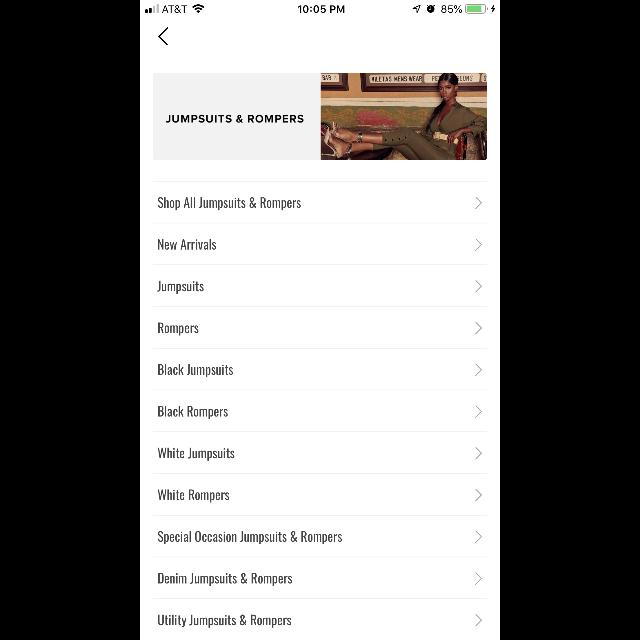icon: (158, 28, 168, 46), (476, 614, 482, 626), (476, 573, 482, 585), (476, 531, 482, 543), (476, 489, 482, 501), (476, 447, 482, 459), (476, 406, 482, 418), (476, 364, 482, 376), (476, 322, 482, 334), (476, 280, 482, 292), (476, 239, 482, 251), (476, 197, 482, 209)
image: (321, 74, 487, 160)
text: (158, 532, 342, 544), (158, 572, 292, 586), (158, 614, 292, 628), (158, 198, 302, 210), (166, 115, 304, 123), (158, 364, 234, 378), (158, 448, 236, 460), (158, 406, 228, 419), (158, 490, 230, 502), (159, 238, 217, 250), (158, 280, 204, 294), (159, 322, 199, 336)
uppertaskbar: (140, 0, 500, 14)
